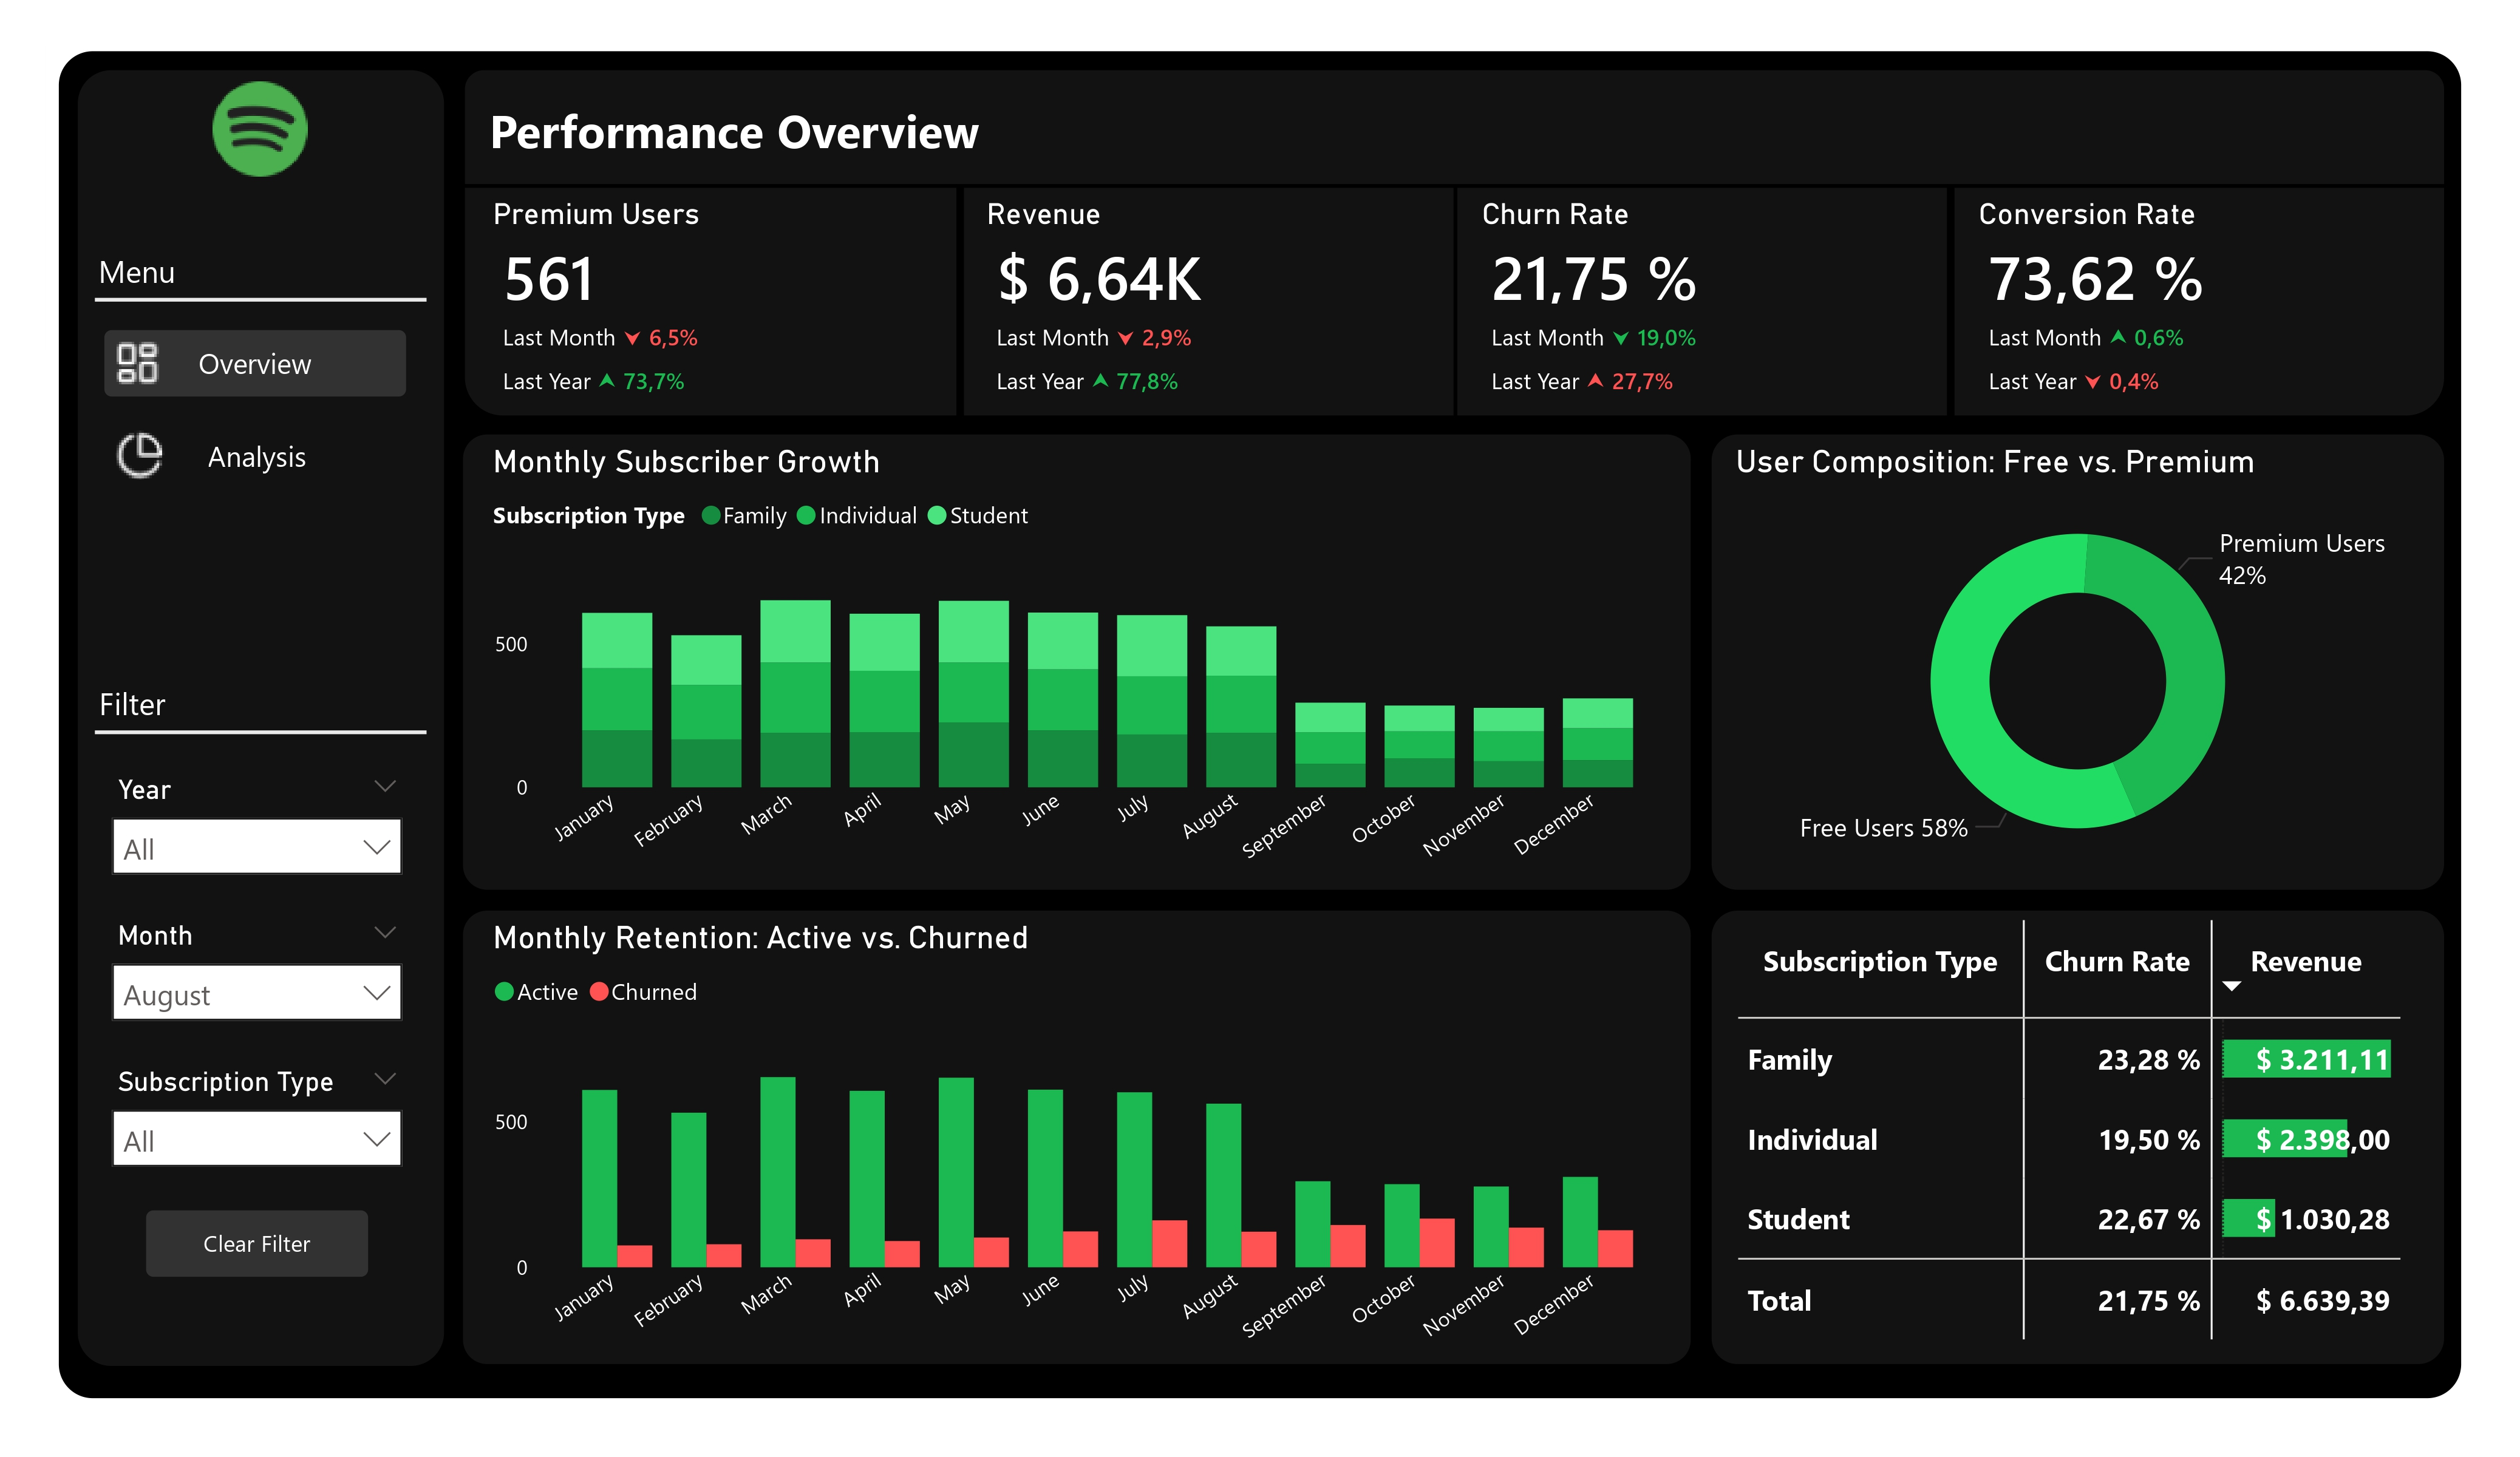

The page's visual inventory and layout, read from the dashboard file:
{"tool":"powerbi","page":{"name":"Overview","canvas":[1280,720],"ordinal":0},"visuals":[{"type":"cardVisual","title":"Premium Users","fields":{"Data":["Medidas.Premium Users"]},"box":[230.7,79.3,246.9,108.7],"z":0},{"type":"cardVisual","title":"Conversion Rate","fields":{"Data":["Medidas.% Conversion Rate"]},"box":[1013.9,79.3,243.9,108.7],"z":1000},{"type":"columnChart","title":"Monthly Subscriber Growth","fields":{"Series":["SpotifyData.SubscriptionType"],"Y":["Medidas.Premium Users"],"Category":["Calendario.Month_EN"]},"box":[230.7,208.7,630.4,233.6],"z":2000},{"type":"slicer","fields":{"Values":["Calendario.#Year"]},"box":[25,379.1,173.4,63.2],"z":3000},{"type":"slicer","fields":{"Values":["Calendario.Month_EN"]},"box":[25,455.5,173.4,63.2],"z":4000},{"type":"cardVisual","title":"Churn Rate","fields":{"Data":["Medidas.Churn Rate %"]},"box":[752.3,79.3,246.9,108.7],"z":5000},{"type":"cardVisual","title":"Revenue","fields":{"Data":["Medidas.Medida"]},"box":[490.8,79.3,246.9,108.7],"z":6000},{"type":"slicer","fields":{"Values":["SpotifyData.SubscriptionType"]},"box":[25,533.4,173.4,63.2],"z":7000},{"type":"clusteredColumnChart","title":"Monthly Retention: Active vs. Churned","fields":{"Y":["Medidas.Premium Users","Medidas.Churned Users P"],"Category":["Calendario.Month_EN"]},"box":[230.7,459.9,630.4,235.1],"z":8000},{"type":"tableEx","fields":{"Values":["SpotifyData.SubscriptionType","Medidas.Churn Rate %","Medidas.Revenue"]},"box":[886,455.5,370.3,239.5],"z":9000},{"type":"actionButton","box":[52.9,614.2,117.6,35.3],"z":10000},{"type":"donutChart","title":"User Composition: Free vs. Premium","fields":{"Y":["Medidas.Premium Users","Medidas.Total Signups"]},"box":[886,208.7,370.3,233.6],"z":11000},{"type":"actionButton","box":[30.9,149.9,158.7,35.3],"z":12000},{"type":"actionButton","box":[32.3,198.4,158.7,35.3],"z":13000}]}

Visuals, with their boxes on the page's 1280x720 design canvas (x1, y1, x2, y2). These are canvas units, not pixel positions in the 2520x1457 screenshot, which may show the page scaled, cropped or inside an application window:
"Premium Users" cardVisual: Rect(231, 79, 478, 188)
"Conversion Rate" cardVisual: Rect(1014, 79, 1258, 188)
"Monthly Subscriber Growth" columnChart: Rect(231, 209, 861, 442)
slicer - Calendario.#Year: Rect(25, 379, 198, 442)
slicer - Calendario.Month_EN: Rect(25, 456, 198, 519)
"Churn Rate" cardVisual: Rect(752, 79, 999, 188)
"Revenue" cardVisual: Rect(491, 79, 738, 188)
slicer - SpotifyData.SubscriptionType: Rect(25, 533, 198, 597)
"Monthly Retention: Active vs. Churned" clusteredColumnChart: Rect(231, 460, 861, 695)
tableEx - SpotifyData.SubscriptionType x Medidas.Churn Rate %: Rect(886, 456, 1256, 695)
actionButton: Rect(53, 614, 170, 650)
"User Composition: Free vs. Premium" donutChart: Rect(886, 209, 1256, 442)
actionButton: Rect(31, 150, 190, 185)
actionButton: Rect(32, 198, 191, 234)
